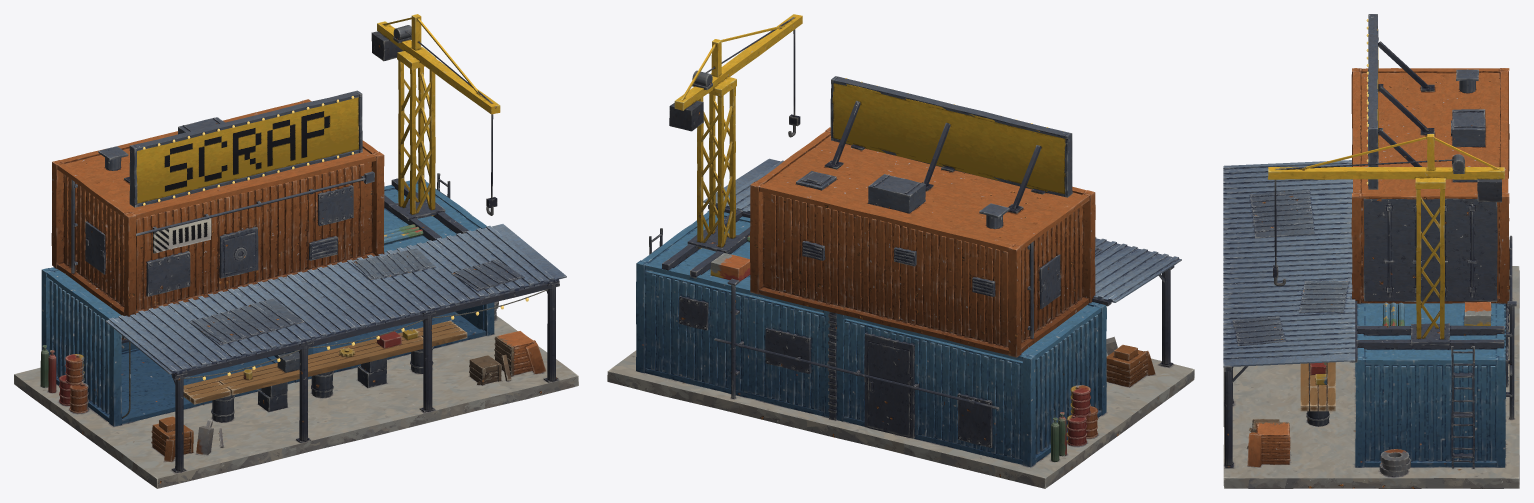
The picture shows the model from 3 angles, left to right: view 1: azimuth 30°, elevation 25°; view 2: azimuth 150°, elevation 25°; view 3: azimuth 270°, elevation 25°; orthographic projection. The views are drawn at different scales.
Parts seen in each view (by area): view 1: UpperContainer, Slab, Awning, LowerContainers, Fittings, Sign, Crane, AwningPosts, AwningPatches, Counter, StockPiles, Supplies (+4 smaller); view 2: UpperContainer, LowerContainers, Fittings, Slab, Sign, Crane, Awning, Supplies, StockPiles, SignBraces, CraneWeight, AwningPosts (+1 smaller); view 3: Fittings, Awning, LowerContainers, Slab, UpperContainer, Crane, AwningPatches, Supplies, StockPiles, Counter, SignBraces, AwningPosts (+3 smaller).
Boxes of the visible parts, x1,y1,x2,y2 form: UpperContainer: (51, 99, 384, 316); Slab: (14, 316, 578, 488); Awning: (105, 224, 566, 374); LowerContainers: (41, 179, 494, 426); Fittings: (71, 90, 468, 348); Sign: (136, 97, 358, 203); Crane: (377, 14, 500, 216); AwningPosts: (171, 280, 559, 472); AwningPatches: (188, 248, 524, 344); Counter: (183, 320, 467, 404); StockPiles: (151, 331, 545, 461); Supplies: (40, 224, 498, 413); UpperContainer: (750, 127, 1095, 357); LowerContainers: (636, 210, 1106, 467); Fittings: (649, 76, 1072, 447); Slab: (607, 296, 1194, 488); Sign: (832, 83, 1065, 194); Crane: (674, 14, 802, 248); Awning: (703, 158, 1181, 302); Supplies: (710, 235, 1098, 461); StockPiles: (1106, 336, 1155, 387); SignBraces: (824, 101, 1045, 213); CraneWeight: (669, 70, 712, 131); AwningPosts: (708, 204, 1174, 367); Fittings: (1356, 14, 1516, 468); Awning: (1223, 160, 1355, 367); LowerContainers: (1355, 303, 1506, 467); Slab: (1223, 266, 1519, 488); UpperContainer: (1351, 68, 1509, 303); Crane: (1268, 134, 1504, 339); AwningPatches: (1232, 189, 1349, 345); Supplies: (1310, 302, 1491, 476); StockPiles: (1247, 419, 1290, 467); Counter: (1300, 362, 1335, 411); SignBraces: (1378, 41, 1434, 166); AwningPosts: (1223, 301, 1357, 468).
Size of the model in its own units: 34.1 by 24.06 by 20.04.
22 materials, 22 textured.
